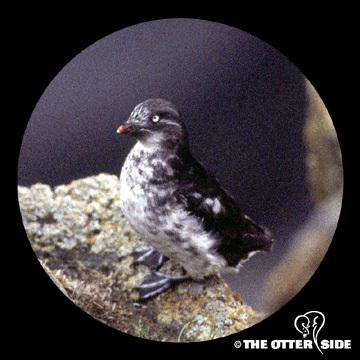006.Least_Auklet: (116, 95, 277, 301)
